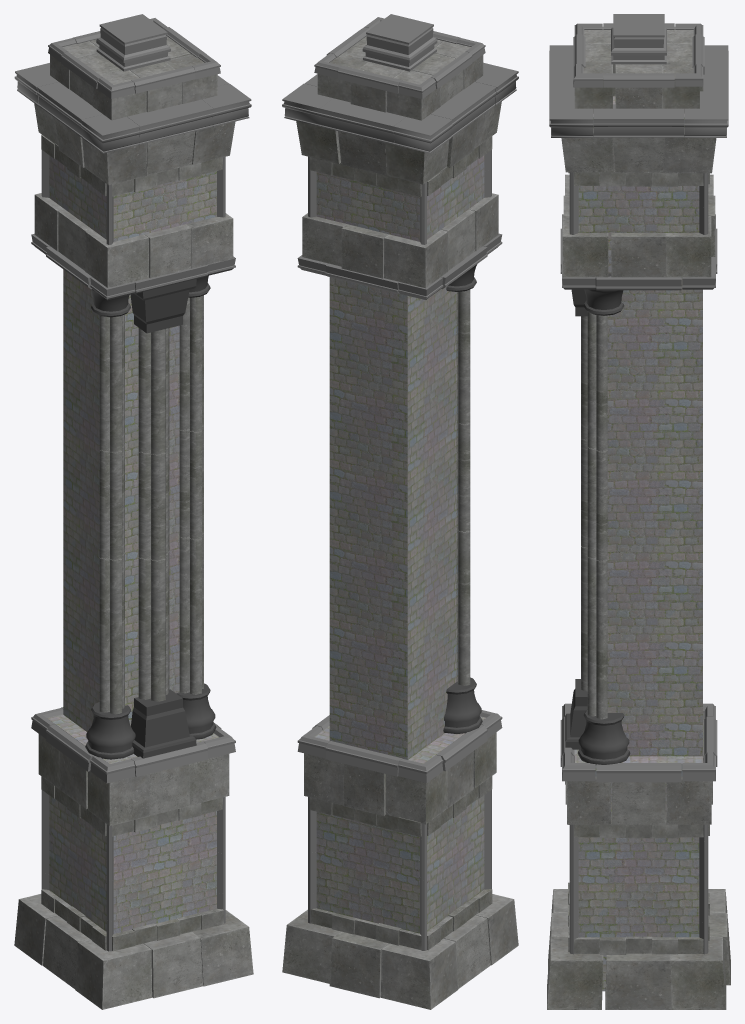
The model's file is SM_bridge_pillar.fbx.
3 views of the same model, side by side, from view 1: azimuth 30°, elevation 25°; view 2: azimuth 150°, elevation 25°; view 3: azimuth 270°, elevation 25° (orthographic).
Parts seen in each view (by area): view 1: Bridge_pillar; view 2: Bridge_pillar; view 3: Bridge_pillar.
Boxes of the visible parts, x1,y1,x2,y2 form: Bridge_pillar: (14, 14, 253, 1009); Bridge_pillar: (282, 14, 518, 1009); Bridge_pillar: (547, 14, 730, 1009).
Bounding box in the file's own units: 207 × 1225 × 215.
